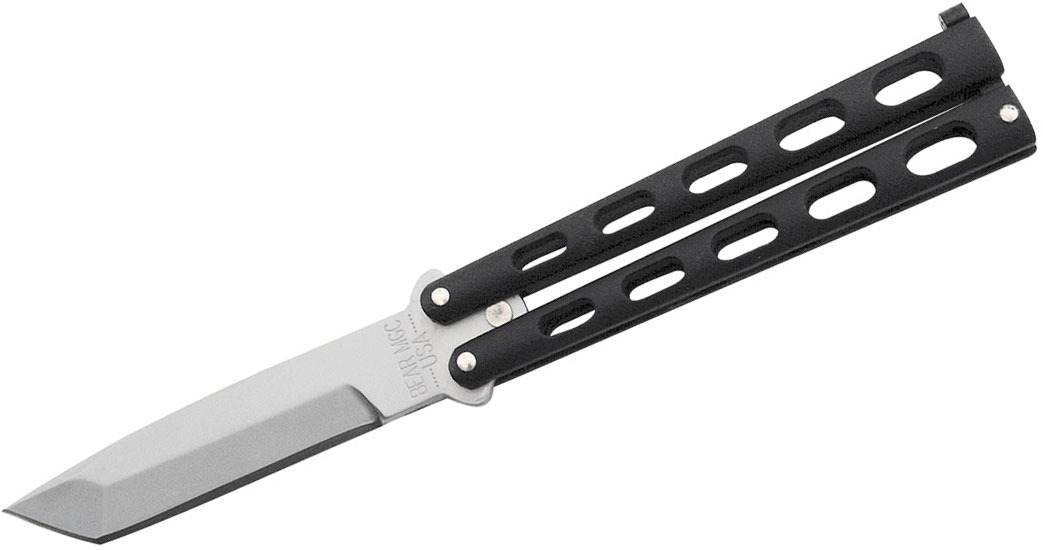knife: (0, 3, 1043, 546)
